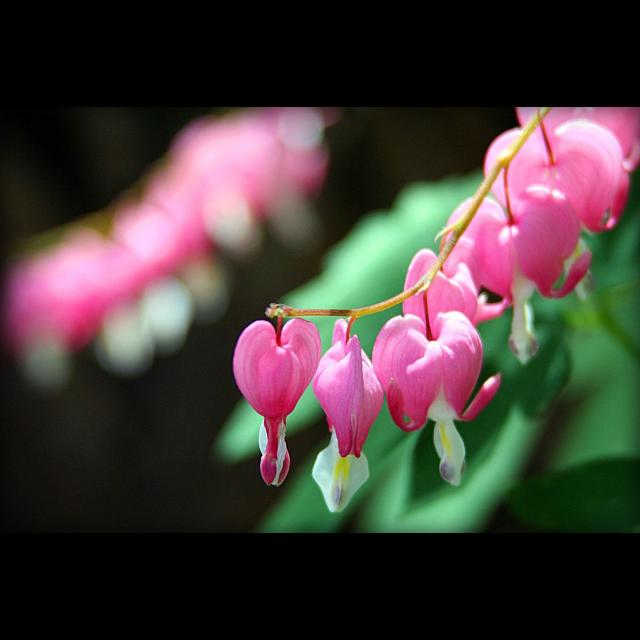Flower: (308, 108, 640, 514), (2, 107, 342, 391), (235, 300, 328, 480)
